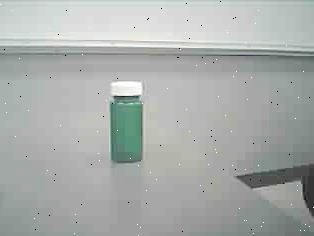Bottle C: (100, 73, 158, 172)
